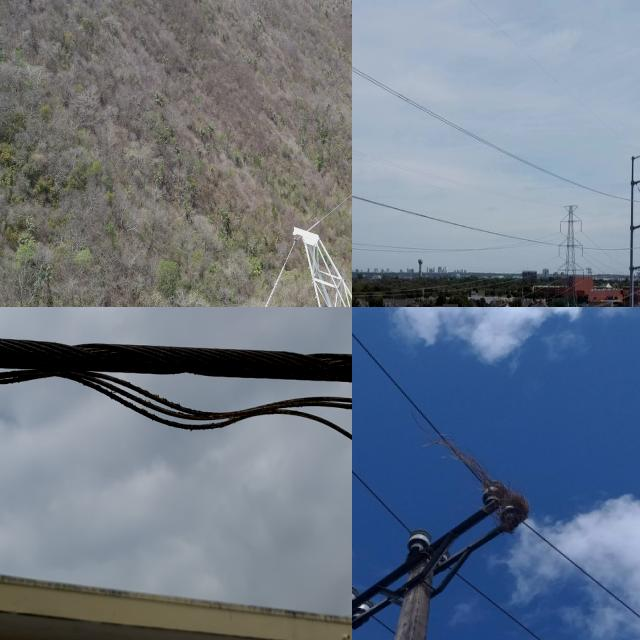杆塔: (555, 200, 586, 307)
植被遮挡: (422, 435, 535, 531)
正常绝缘子: (558, 219, 562, 237), (579, 218, 583, 235), (580, 243, 584, 260), (557, 242, 561, 258), (581, 268, 585, 284)
电缆破损: (0, 319, 352, 474)
